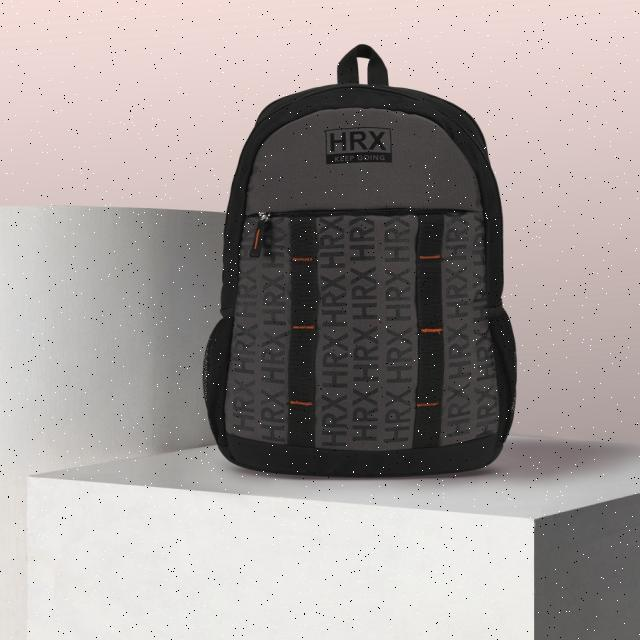backpack: (201, 43, 517, 478)
